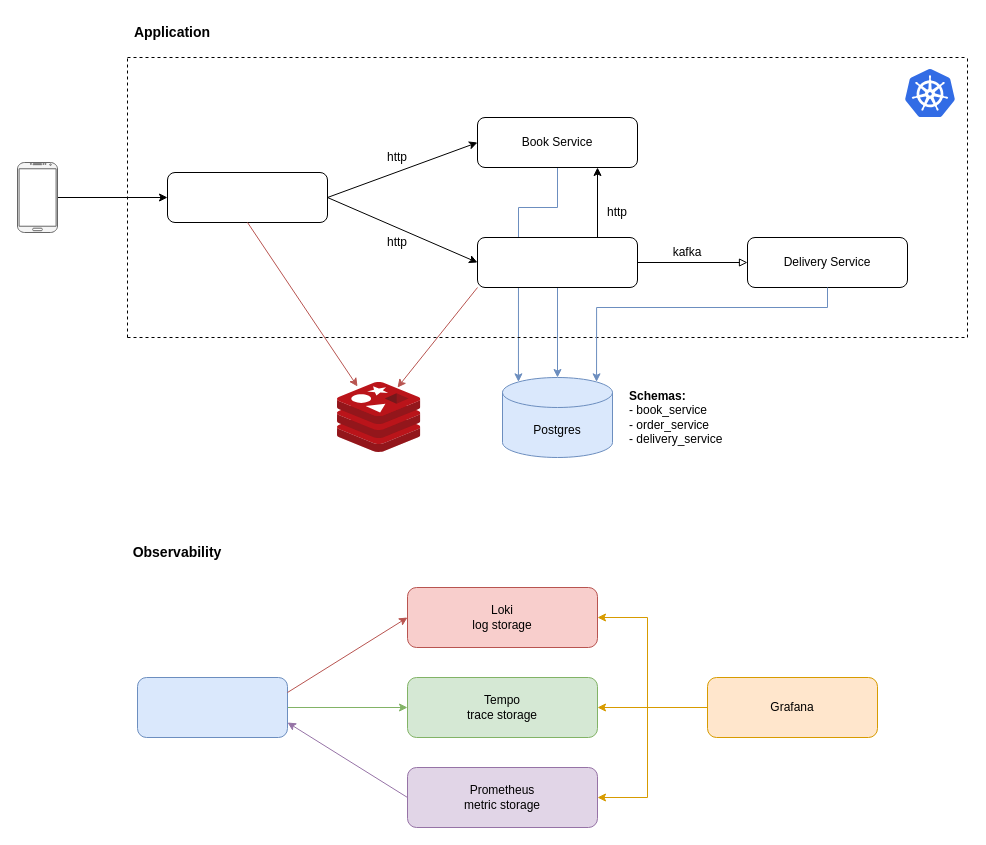
Some shapes in this 986 by 845 pixel diagram are drawn without their labels. The shapes that lost their labels are listed below. From the top down, each one's centre as x and y in pixels, then its label:
At point (247, 197): "API Gateway".
At point (557, 262): "Order Service".
At point (212, 707): "Service".
